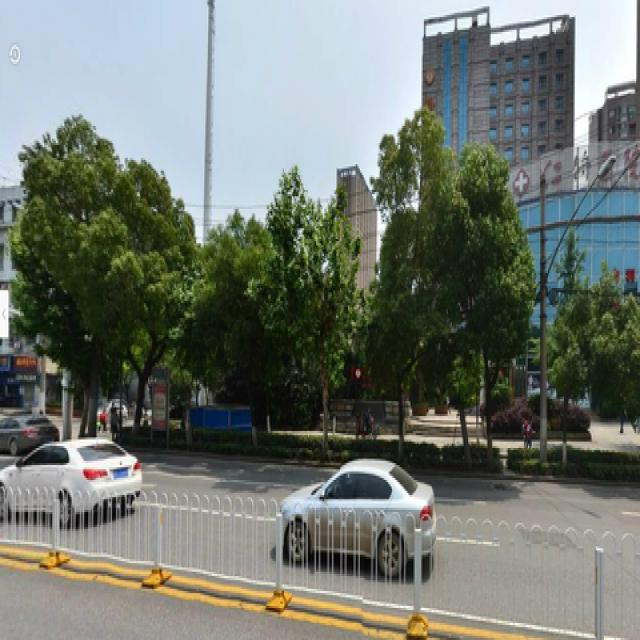cinn: (69, 154, 176, 435), (401, 154, 503, 448)
meta: (271, 198, 348, 442)
